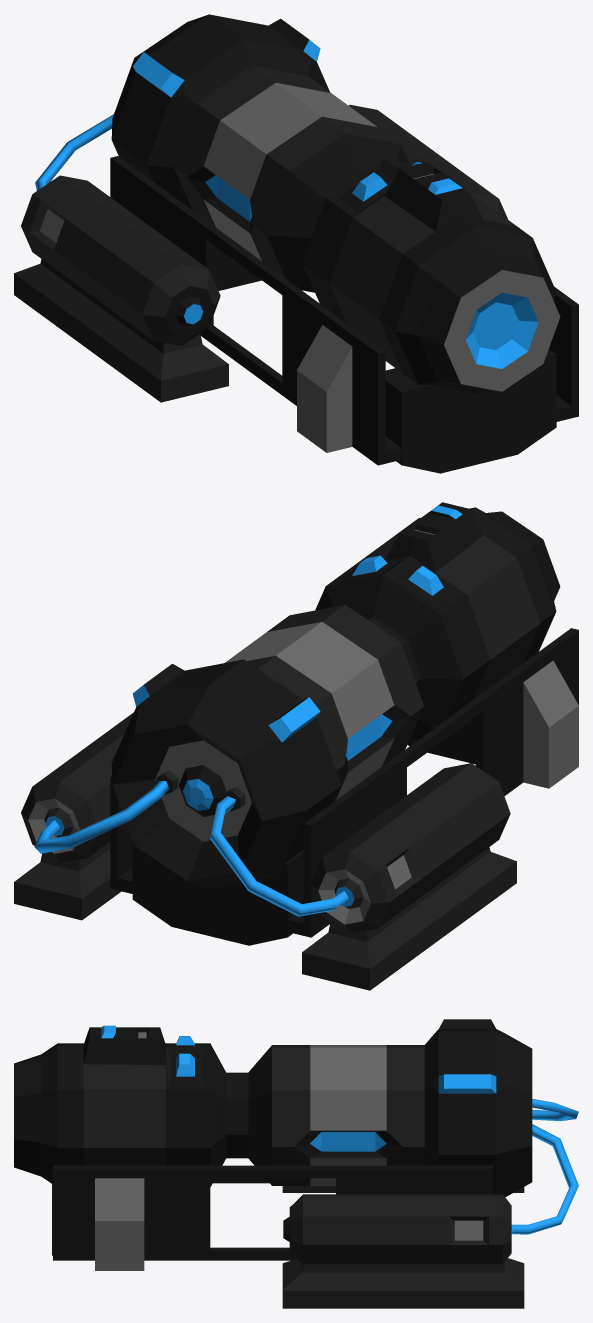
Rendered from Generator.fbx.
The picture shows the model from 3 angles, top to bottom: view 1: azimuth 30°, elevation 25°; view 2: azimuth 150°, elevation 25°; view 3: azimuth 270°, elevation 25°; orthographic projection. The views are drawn at different scales.
Parts seen in each view (by area): view 1: Cylinder, Cube, Cylinder.001, BezierCurve; view 2: Cylinder, Cylinder.001, Cube, BezierCurve; view 3: Cylinder, Cylinder.001, Cube, BezierCurve.
Part boxes in pixels (box(x1,y1,x2,y2)): Cylinder: box(111, 14, 560, 393); Cube: box(110, 156, 578, 473); Cylinder.001: box(14, 104, 508, 402); BezierCurve: box(35, 114, 113, 190); Cylinder: box(111, 502, 560, 888); Cylinder.001: box(14, 712, 516, 990); Cube: box(110, 628, 578, 945); BezierCurve: box(34, 780, 348, 916); Cylinder: box(14, 1019, 532, 1196); Cylinder.001: box(282, 1186, 524, 1308); Cube: box(52, 1165, 493, 1270); BezierCurve: box(511, 1099, 578, 1234).
Size of the model in its own units: 765 by 507 by 1236.
